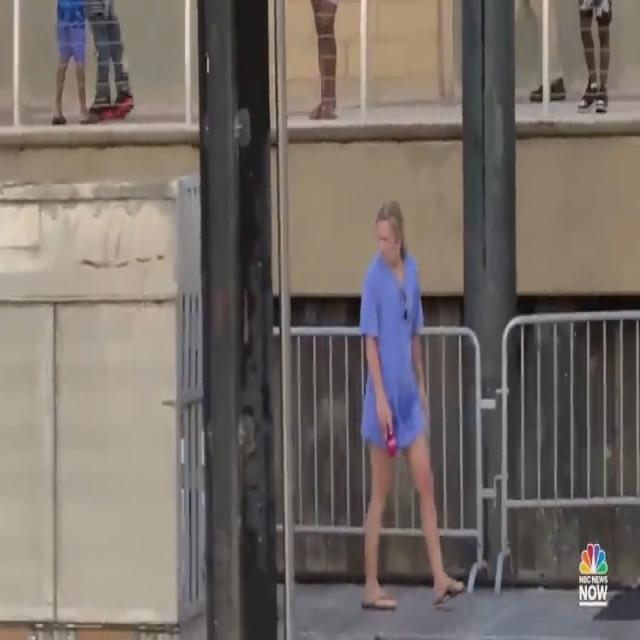non-fight: (338, 190, 472, 632)
